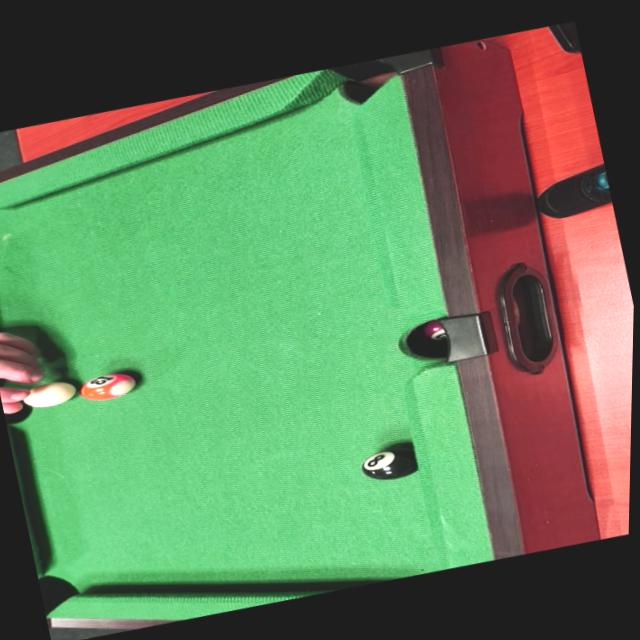cue ball: (20, 372, 86, 415)
other: (352, 437, 422, 487), (77, 362, 139, 406)
